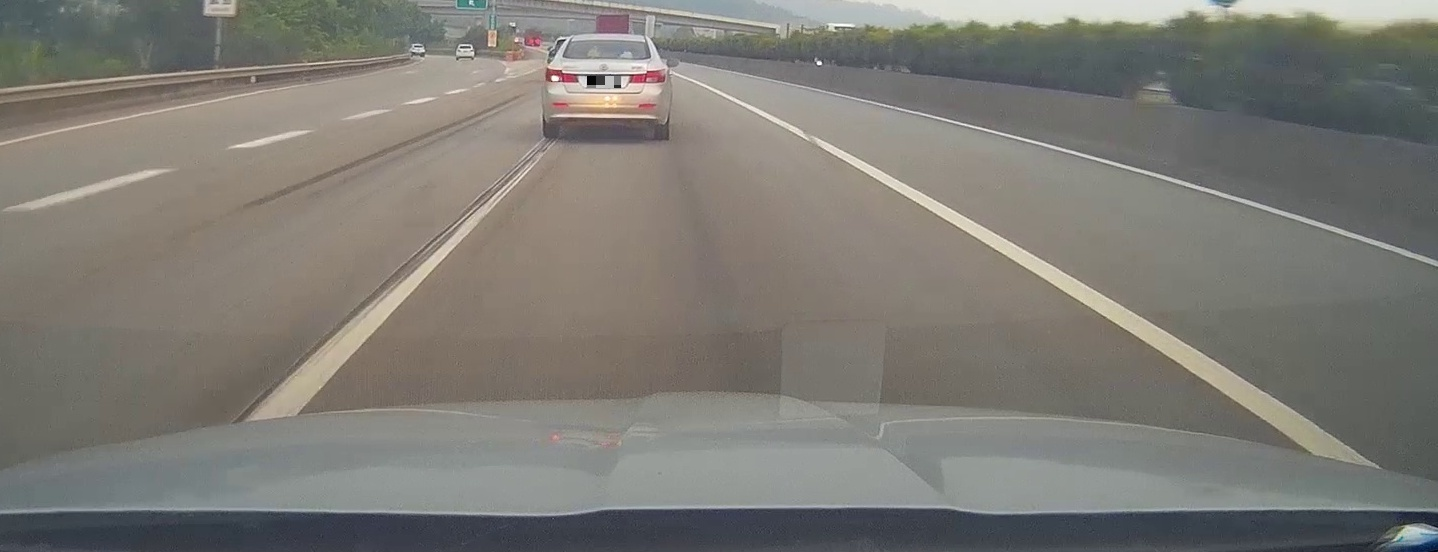L_light: (545, 67, 579, 83)
R_light: (629, 67, 666, 83)
T_light: (595, 54, 612, 59)
day-left: (542, 33, 670, 140)
plate_1: (587, 76, 621, 88)
